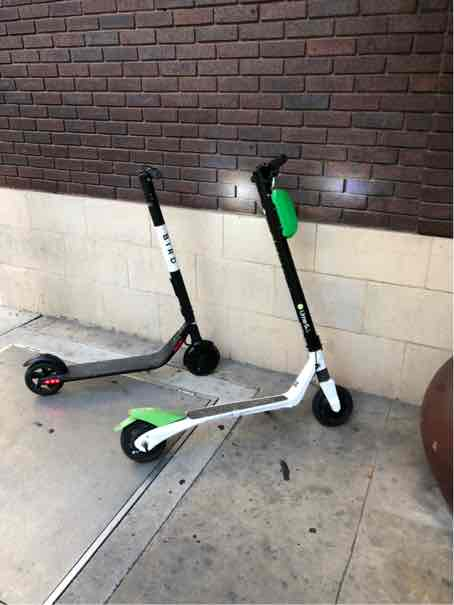scooter: (112, 134, 361, 469)
